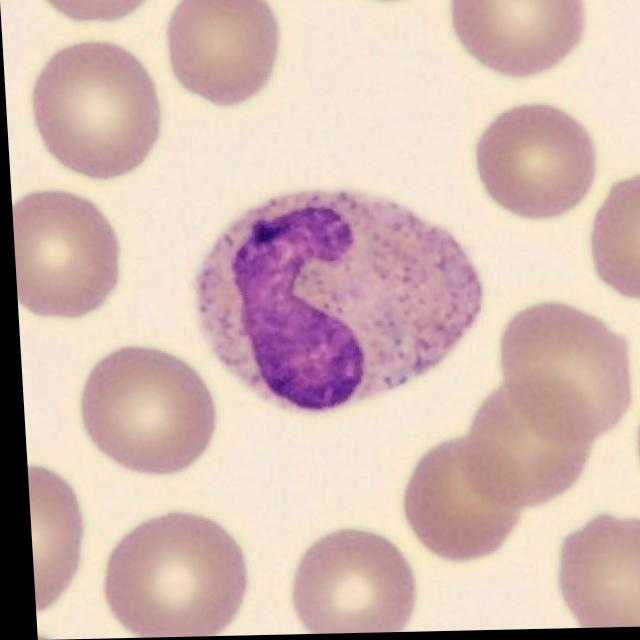Bastonete: (190, 188, 479, 414)
